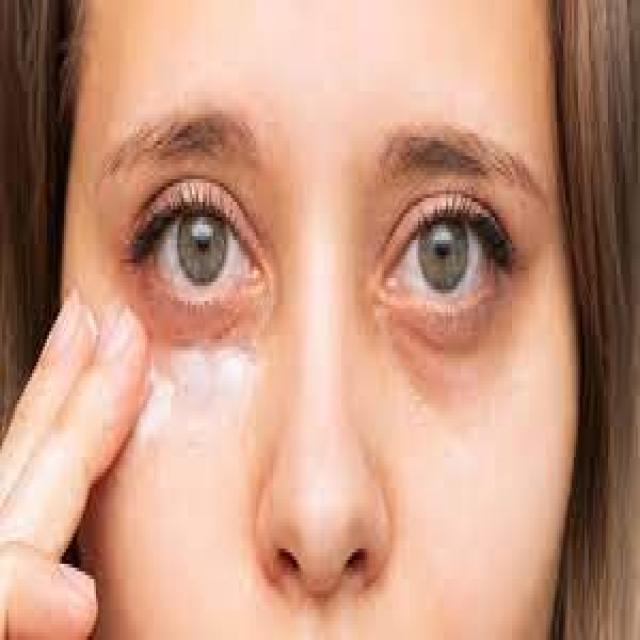Eyes-iris: (174, 193, 230, 291), (416, 207, 471, 295)
